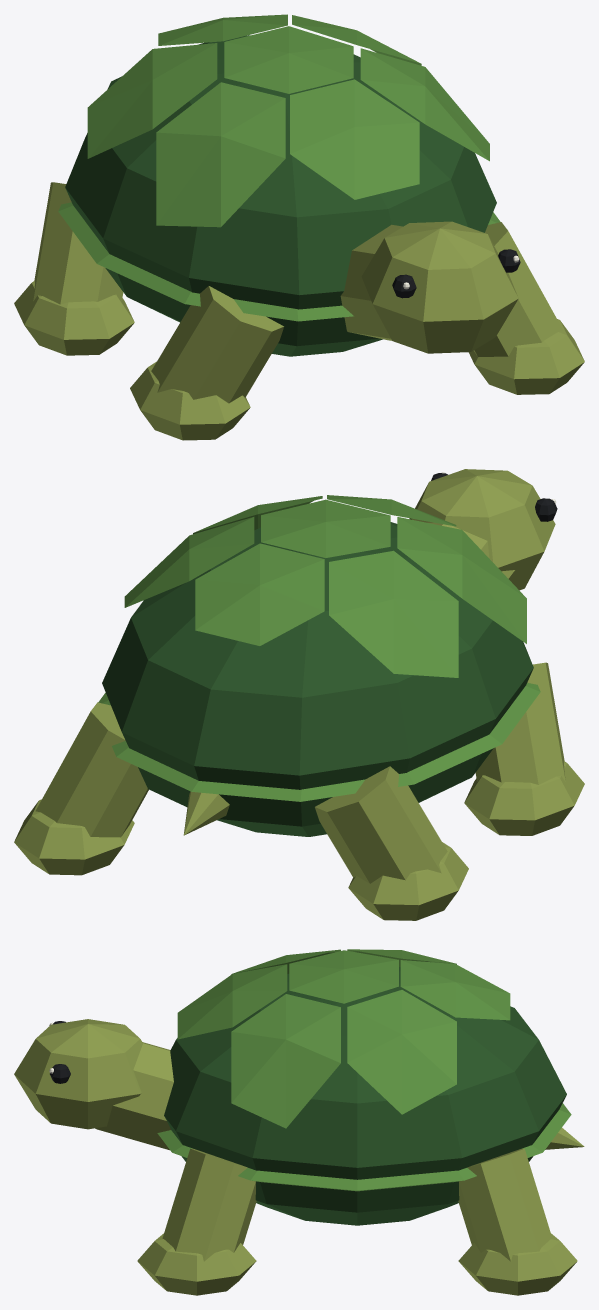
The model's file is turtle.glb.
3 views of the same model, one above another, from view 1: azimuth 30°, elevation 25°; view 2: azimuth 150°, elevation 25°; view 3: azimuth 270°, elevation 25° (orthographic). The views are drawn at different scales.
Visible parts, largest first — view 1: turtle body; view 2: turtle body; view 3: turtle body.
Part boxes in pixels (left/top/right/bottom): turtle body: left=14, top=14, right=584, bottom=440; turtle body: left=14, top=469, right=584, bottom=920; turtle body: left=14, top=949, right=584, bottom=1295.
Size of the model in its own units: 0.4088 by 0.2997 by 0.6.
